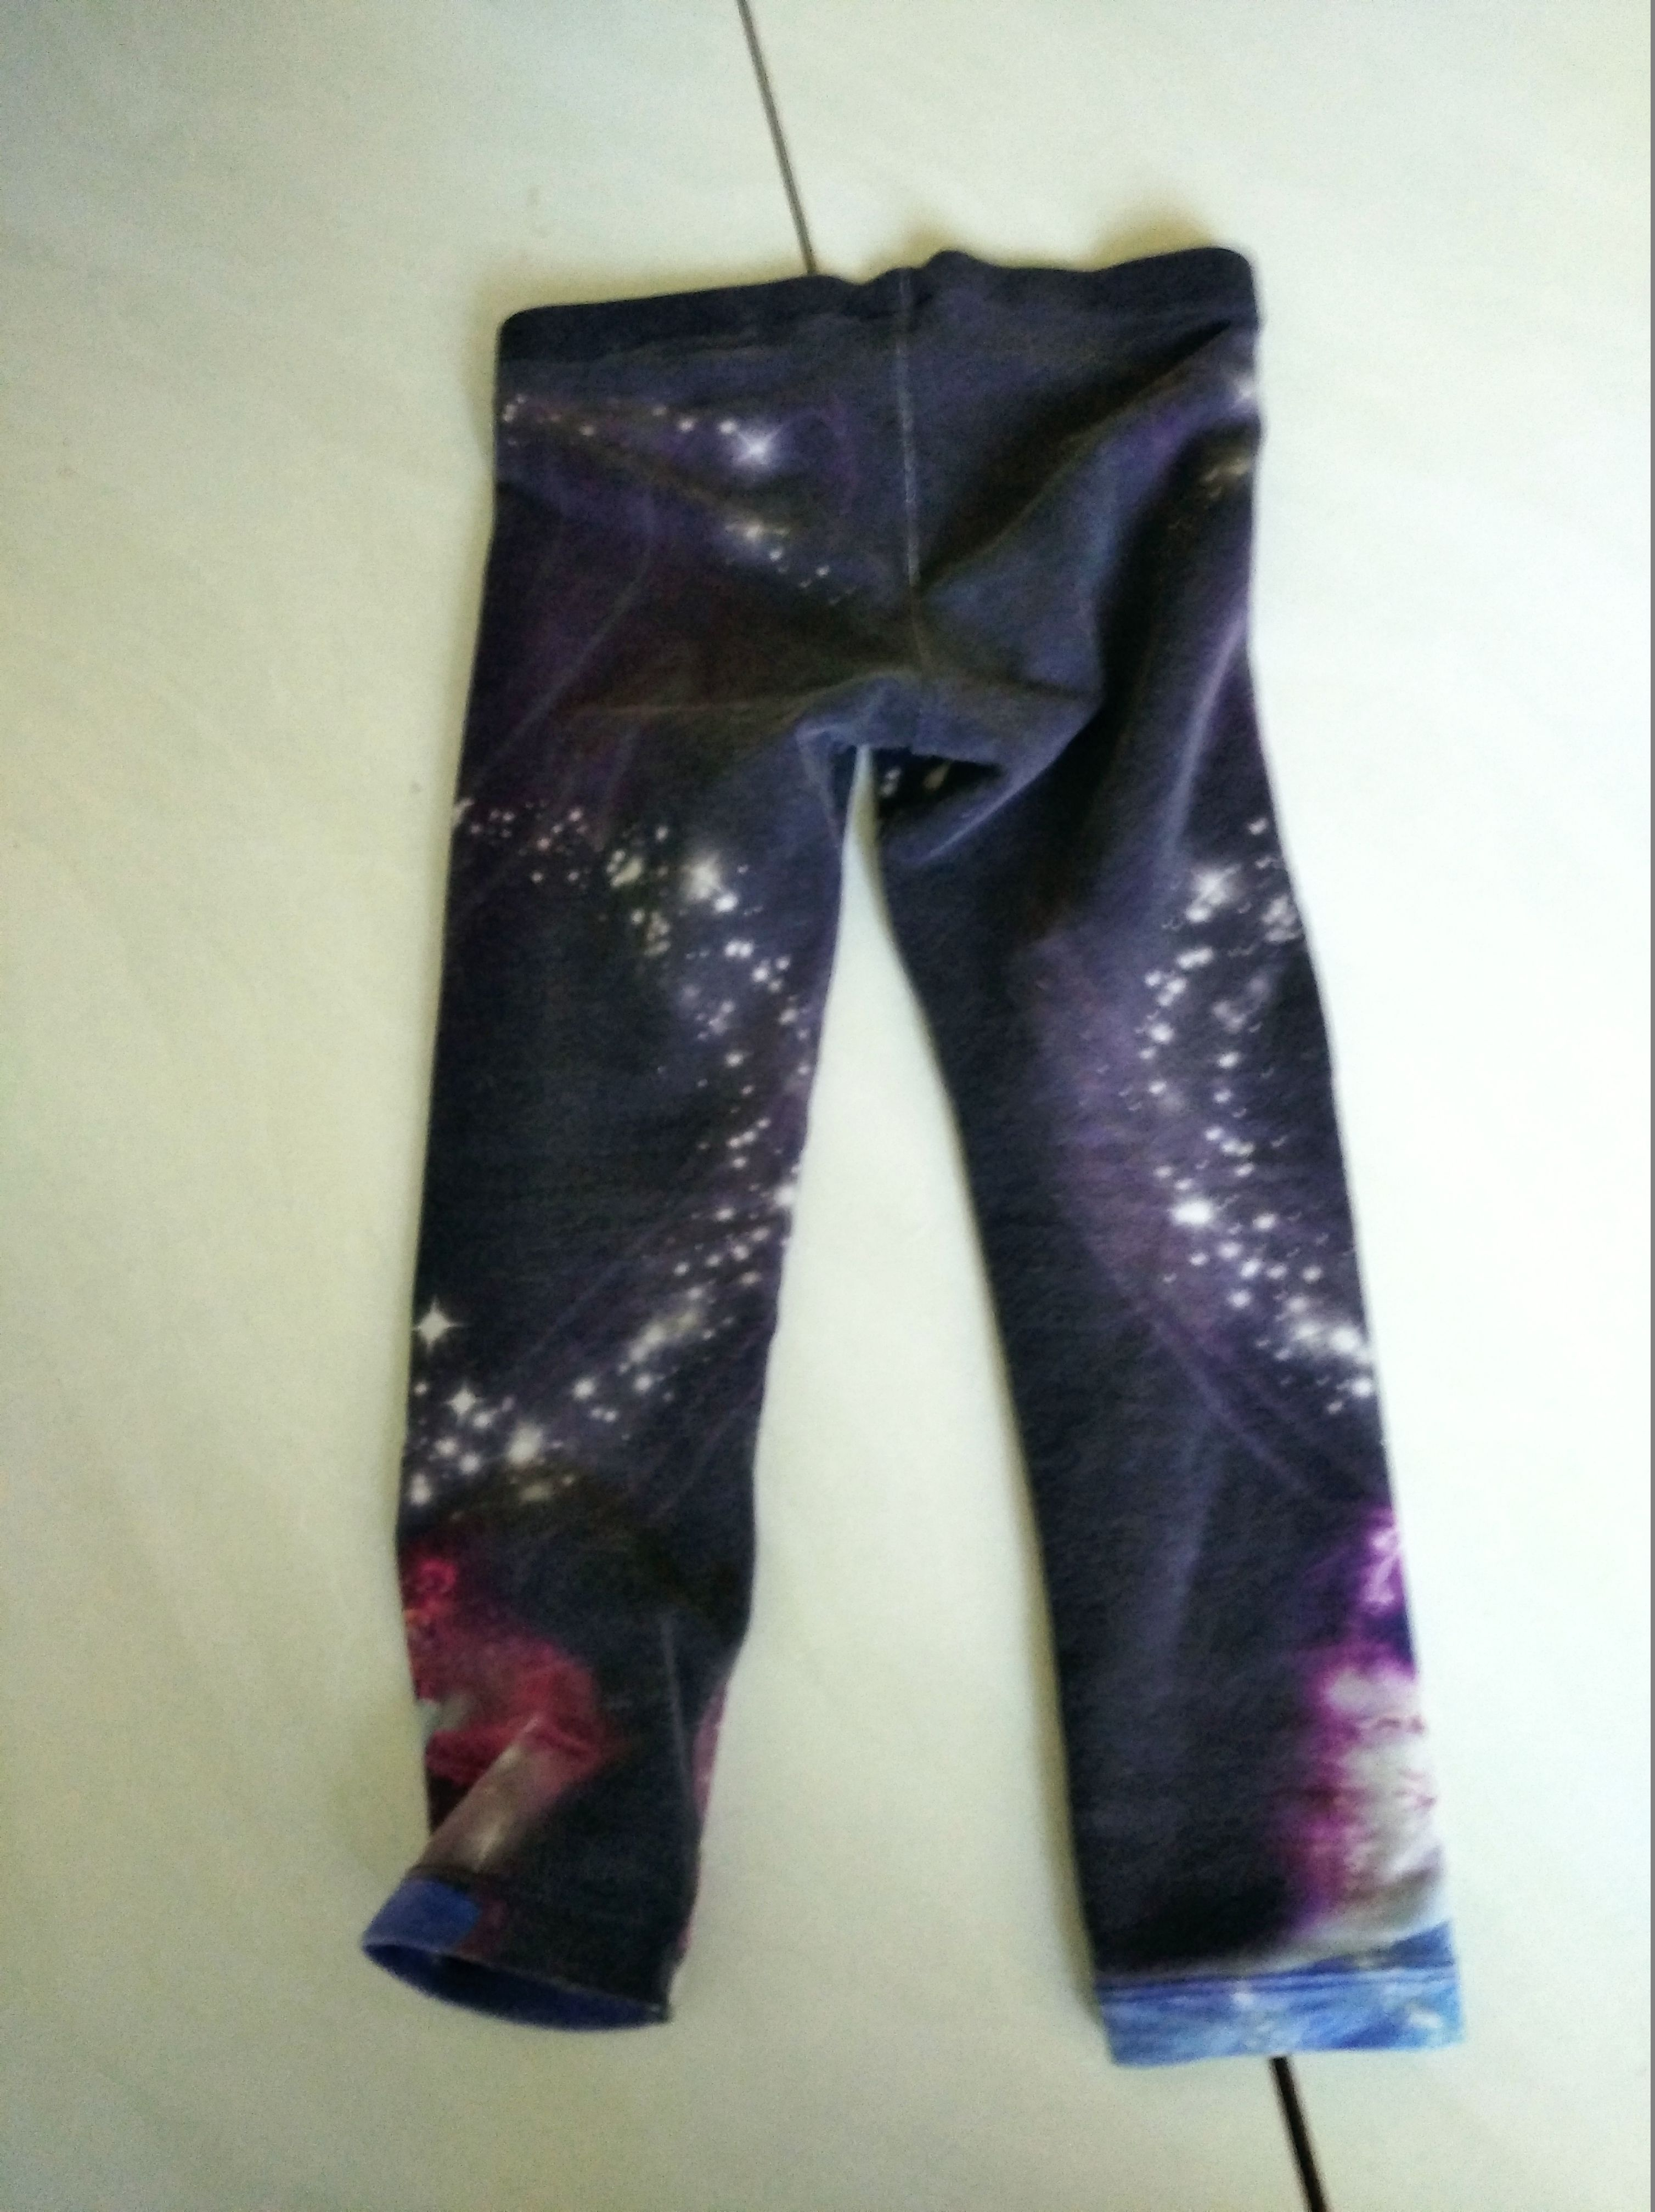clothes: (358, 268, 1497, 2076)
